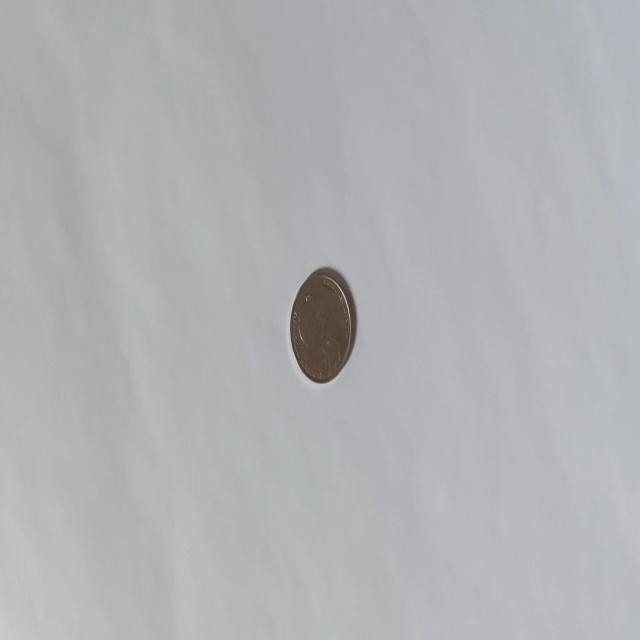seribu rupiah koin: (288, 267, 352, 385)
